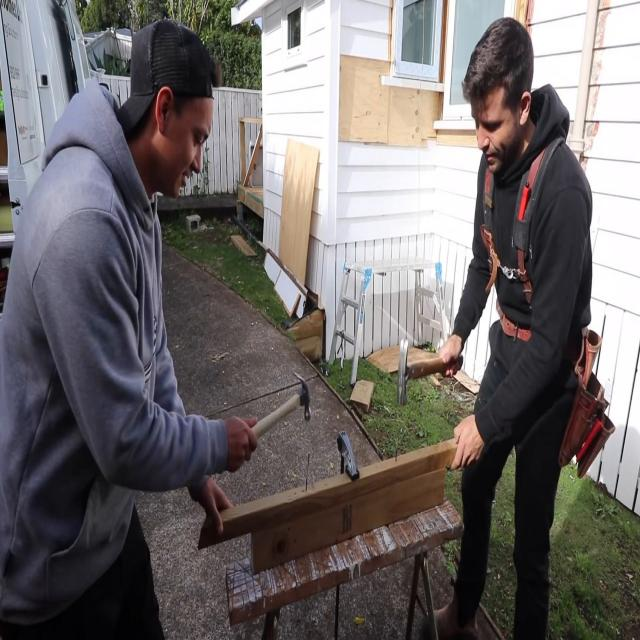hammer: (396, 338, 464, 409), (249, 371, 314, 443)
